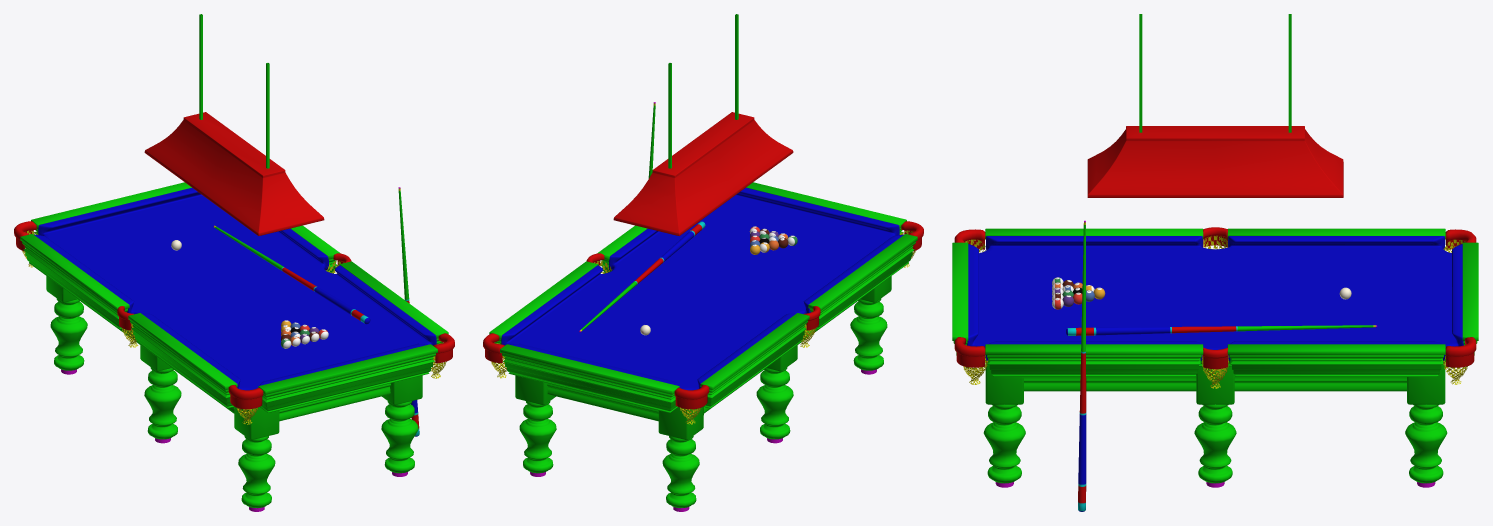
Rendered from pool_table_scene.fbx.
3 views of the same model, side by side, from view 1: azimuth 30°, elevation 25°; view 2: azimuth 150°, elevation 25°; view 3: azimuth 270°, elevation 25° (orthographic). The views are drawn at different scales.
Parts seen in each view (by area): view 1: pooltable_low, ceiling_light_low, pool_cue, pool_cue001; view 2: pooltable_low, ceiling_light_low, pool_cue; view 3: pooltable_low, ceiling_light_low, pool_cue, pool_cue001.
Boxes of the visible parts, x1,y1,x2,y2 form: pooltable_low: (14, 182, 454, 511); ceiling_light_low: (144, 14, 324, 235); pool_cue: (213, 225, 370, 324); pool_cue001: (398, 187, 419, 436); pooltable_low: (483, 182, 923, 511); ceiling_light_low: (613, 14, 793, 235); pool_cue: (579, 221, 705, 332); pooltable_low: (952, 227, 1478, 487); ceiling_light_low: (1087, 14, 1343, 197); pool_cue: (1066, 325, 1377, 335); pool_cue001: (1078, 220, 1086, 511).
Bounding box in the file's own units: 147 × 225 × 249.
